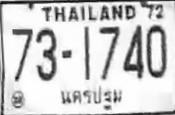0: (146, 24, 167, 77)
1: (83, 25, 90, 80)
3: (34, 27, 56, 80)
4: (122, 24, 143, 78)
7: (10, 27, 32, 81), (98, 25, 119, 80)
NPT: (56, 83, 125, 113)
